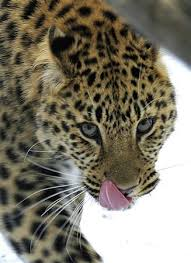amur_leopard: (2, 1, 178, 238)
